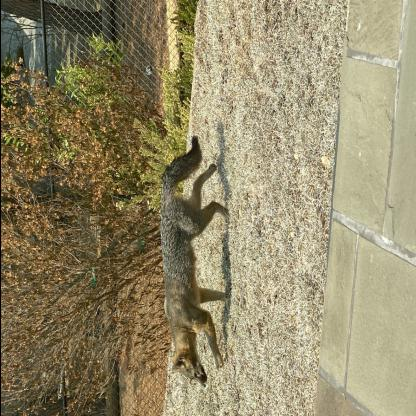zorro: (156, 126, 238, 386)
